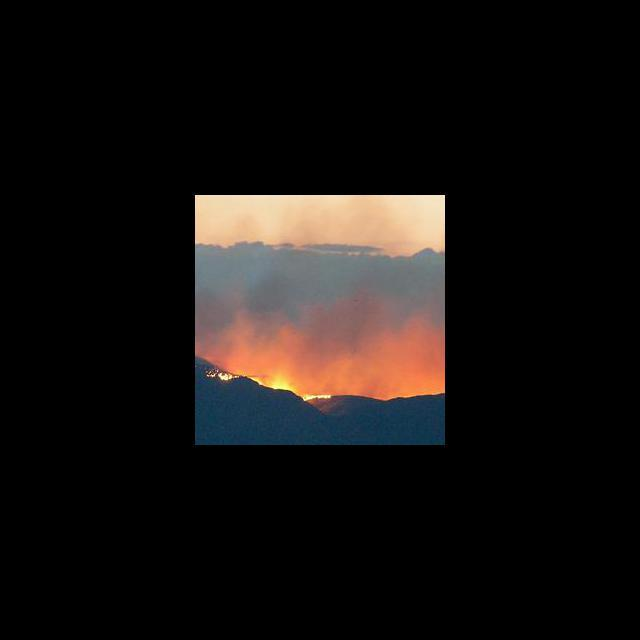Fire: (205, 362, 298, 395)
